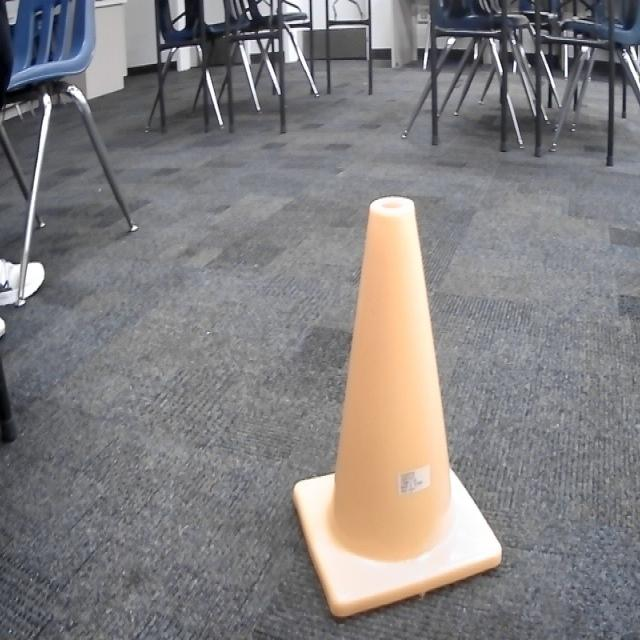cone: (290, 191, 508, 622)
